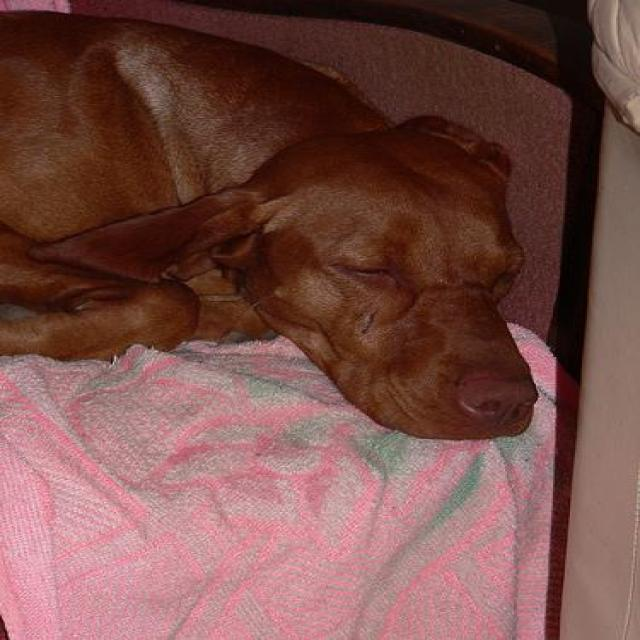vizsla: (0, 2, 539, 439)
